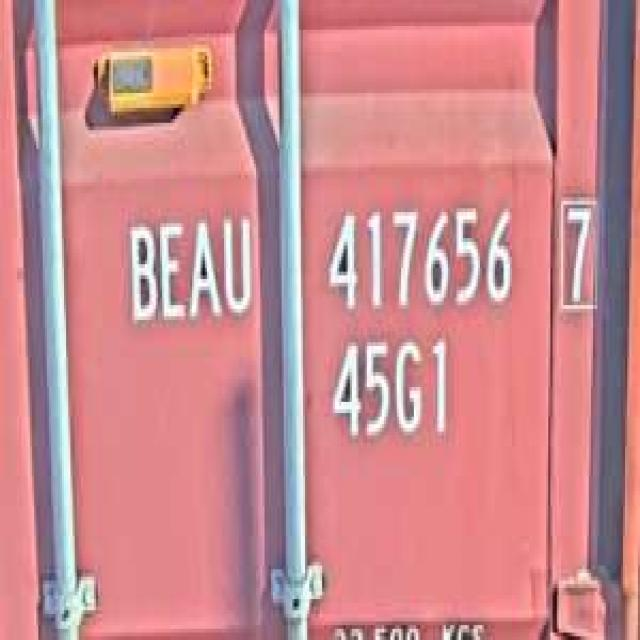dv: (554, 186, 602, 316)
owner: (122, 201, 256, 335)
serial: (322, 190, 519, 324)
size: (324, 331, 454, 450)
